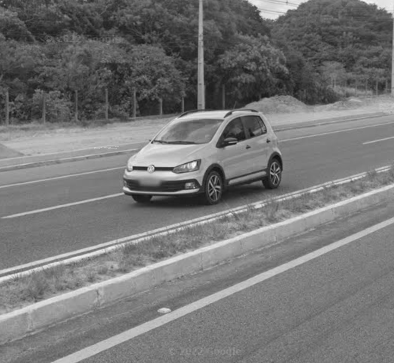car: (122, 101, 286, 205)
